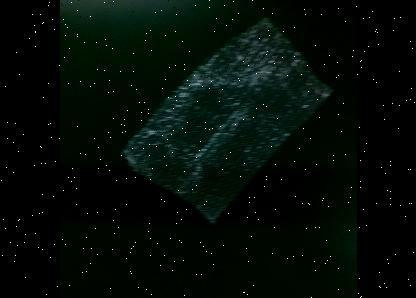Others: (115, 16, 337, 226)
